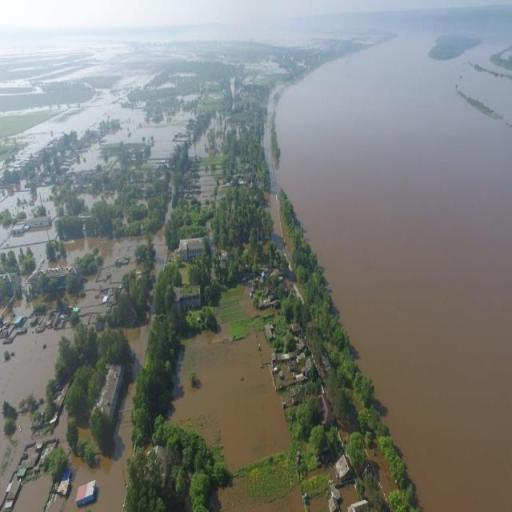flood: (279, 28, 512, 512), (170, 324, 290, 472), (4, 385, 134, 512), (14, 79, 193, 169), (0, 227, 139, 324), (0, 298, 73, 408), (0, 415, 67, 505), (218, 478, 306, 512), (262, 88, 282, 236), (170, 29, 319, 47), (4, 35, 126, 55), (0, 186, 55, 218), (60, 63, 110, 79), (198, 167, 219, 204), (125, 329, 145, 365), (81, 190, 117, 205), (190, 135, 208, 156), (3, 81, 33, 87)
house: (101, 362, 122, 418), (176, 236, 210, 260), (14, 215, 52, 236), (334, 454, 354, 482), (76, 480, 96, 503), (5, 481, 19, 512), (349, 498, 367, 512)
